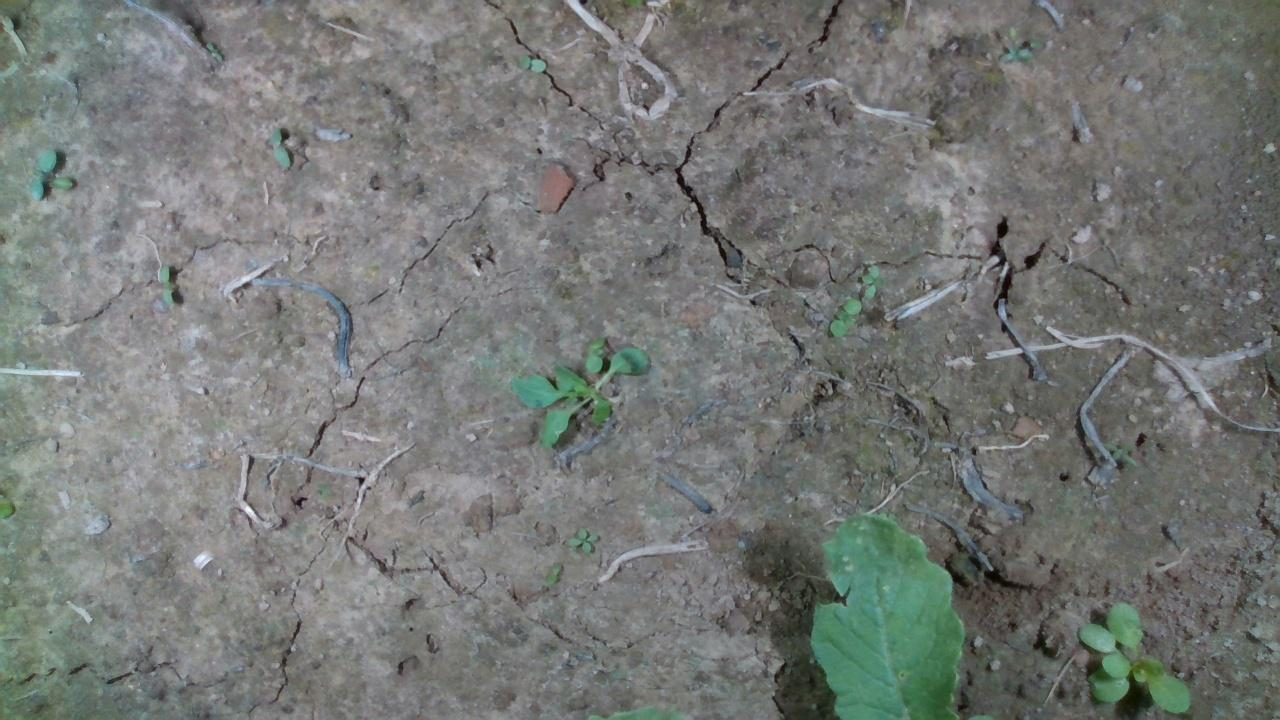weed: (25, 144, 76, 200), (826, 297, 862, 337), (266, 123, 289, 171), (563, 524, 599, 553), (861, 261, 885, 298), (158, 261, 175, 306), (517, 52, 545, 73), (543, 560, 561, 583)
